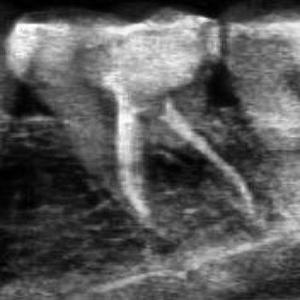tooth: (0, 6, 256, 226), (220, 1, 300, 187)
